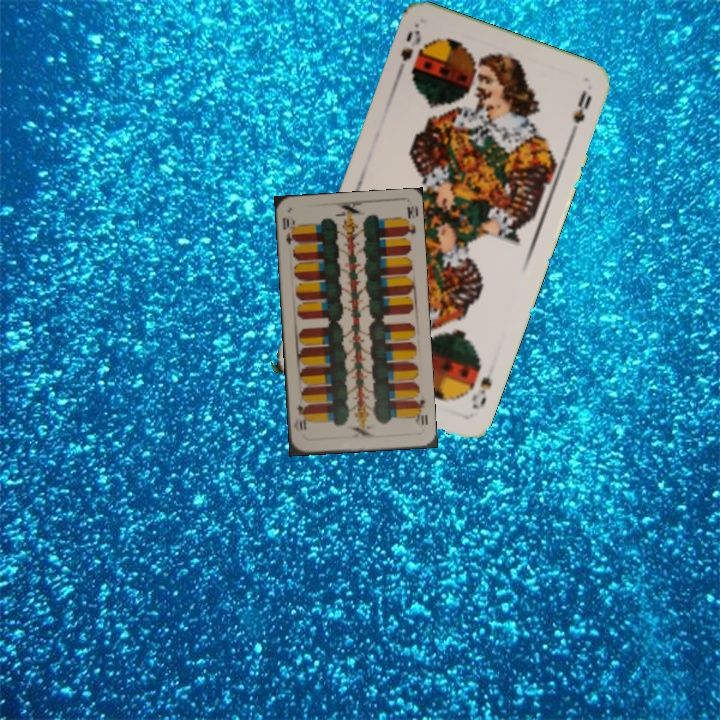E10: (278, 214, 300, 247), (410, 396, 430, 430)
SO: (392, 26, 424, 81), (467, 372, 495, 412)
